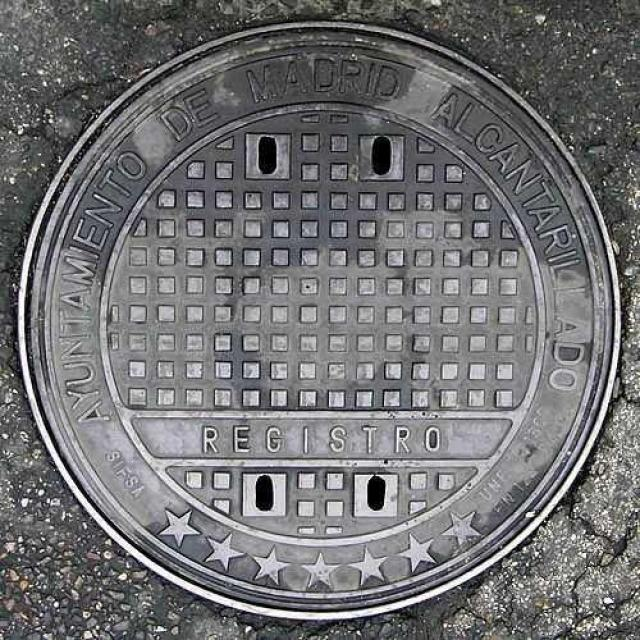manhole: (15, 19, 625, 627)
